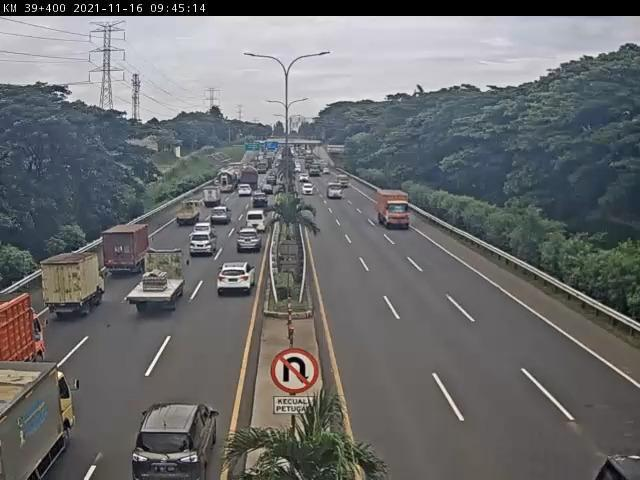car: (131, 405, 219, 480), (218, 262, 258, 297), (185, 236, 213, 263), (239, 232, 263, 255), (246, 214, 265, 237), (208, 209, 228, 230), (186, 227, 208, 244), (252, 197, 270, 210)
truck: (127, 253, 189, 314), (42, 255, 100, 316), (103, 224, 152, 275), (375, 188, 411, 228), (171, 201, 197, 229), (202, 185, 221, 209)
